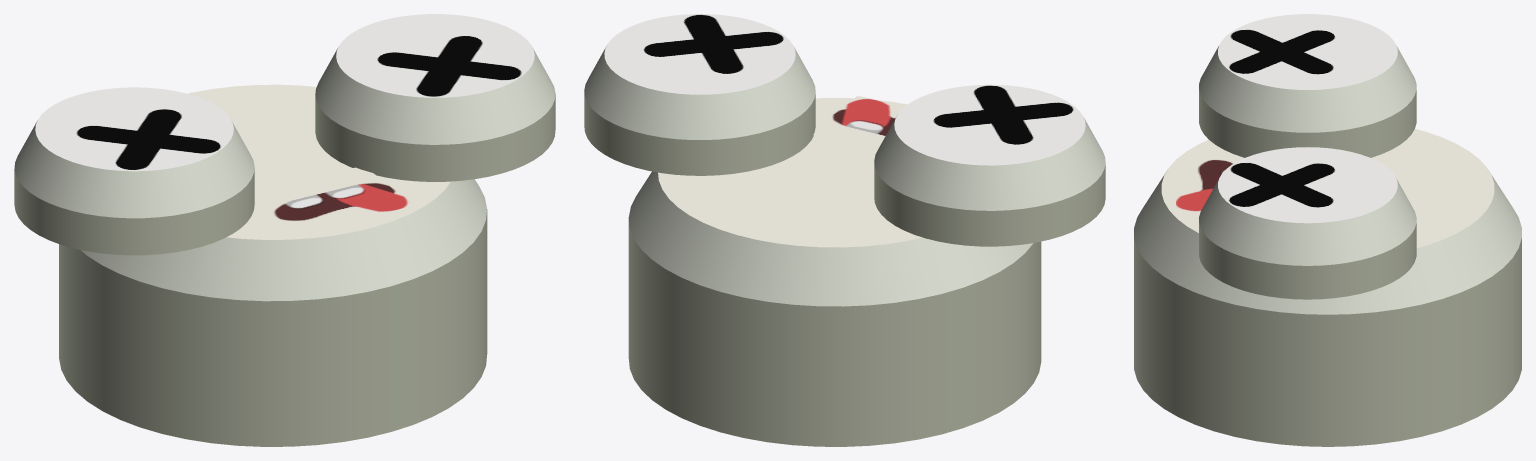
Rendered from shetou.FBX.
The picture shows the model from 3 angles, left to right: view 1: azimuth 30°, elevation 25°; view 2: azimuth 150°, elevation 25°; view 3: azimuth 270°, elevation 25°; orthographic projection. The views are drawn at different scales.
Visible parts, largest first — view 1: Cylinder006; view 2: Cylinder006; view 3: Cylinder006.
Part boxes in pixels (<box>): Cylinder006: <box>14,14,555,446</box>; Cylinder006: <box>584,14,1105,446</box>; Cylinder006: <box>1134,14,1521,446</box>.
Bounding box in the file's own units: 16.2 × 8.27 × 11.78.
